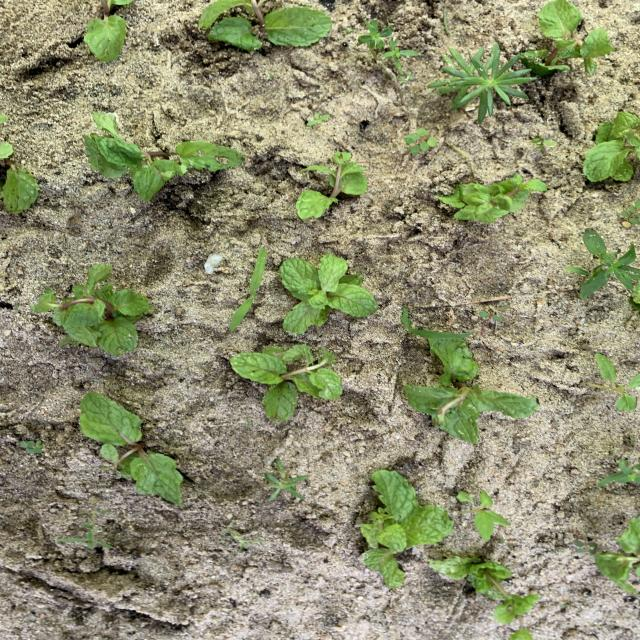crop: (403, 312, 538, 443), (84, 112, 243, 199), (80, 392, 183, 504), (31, 264, 152, 354), (361, 470, 453, 586), (231, 345, 342, 420), (281, 255, 377, 333), (430, 557, 538, 622), (201, 1, 330, 50), (525, 1, 611, 72), (437, 174, 546, 222), (297, 152, 367, 218), (584, 113, 639, 182), (597, 517, 639, 591), (85, 1, 131, 60), (0, 142, 38, 213)
weed: (428, 43, 535, 123), (567, 231, 639, 299), (586, 354, 639, 410), (231, 248, 267, 330), (456, 490, 510, 542), (266, 459, 307, 500), (223, 521, 265, 553), (382, 39, 419, 71), (598, 460, 639, 486), (360, 21, 392, 48), (57, 530, 99, 548), (405, 129, 435, 153), (78, 497, 107, 519), (621, 201, 639, 225), (478, 307, 505, 321), (574, 536, 596, 552), (20, 440, 43, 453), (530, 137, 555, 147), (307, 114, 329, 125), (562, 603, 570, 608)
